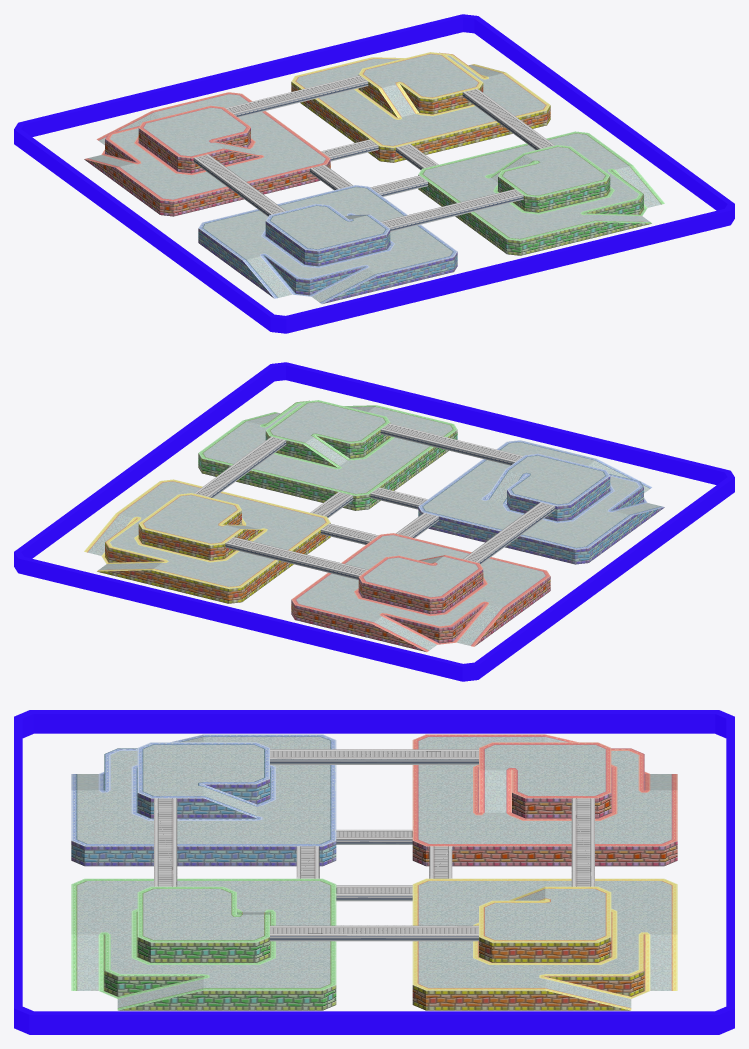
Rendered from walls1.glb.
The picture shows the model from 3 angles, top to bottom: view 1: azimuth 30°, elevation 25°; view 2: azimuth 150°, elevation 25°; view 3: azimuth 270°, elevation 25°; orthographic projection. The views are drawn at different scales.
Visible parts, largest first — view 1: course_model; view 2: course_model; view 3: course_model.
Part boxes in pixels (x1,y1,x2,y2): course_model: [14, 14, 734, 333]; course_model: [14, 362, 734, 681]; course_model: [14, 710, 734, 1034].
Bounding box in the file's own units: 153 × 9.38 × 153.
9 materials, 8 textured.
